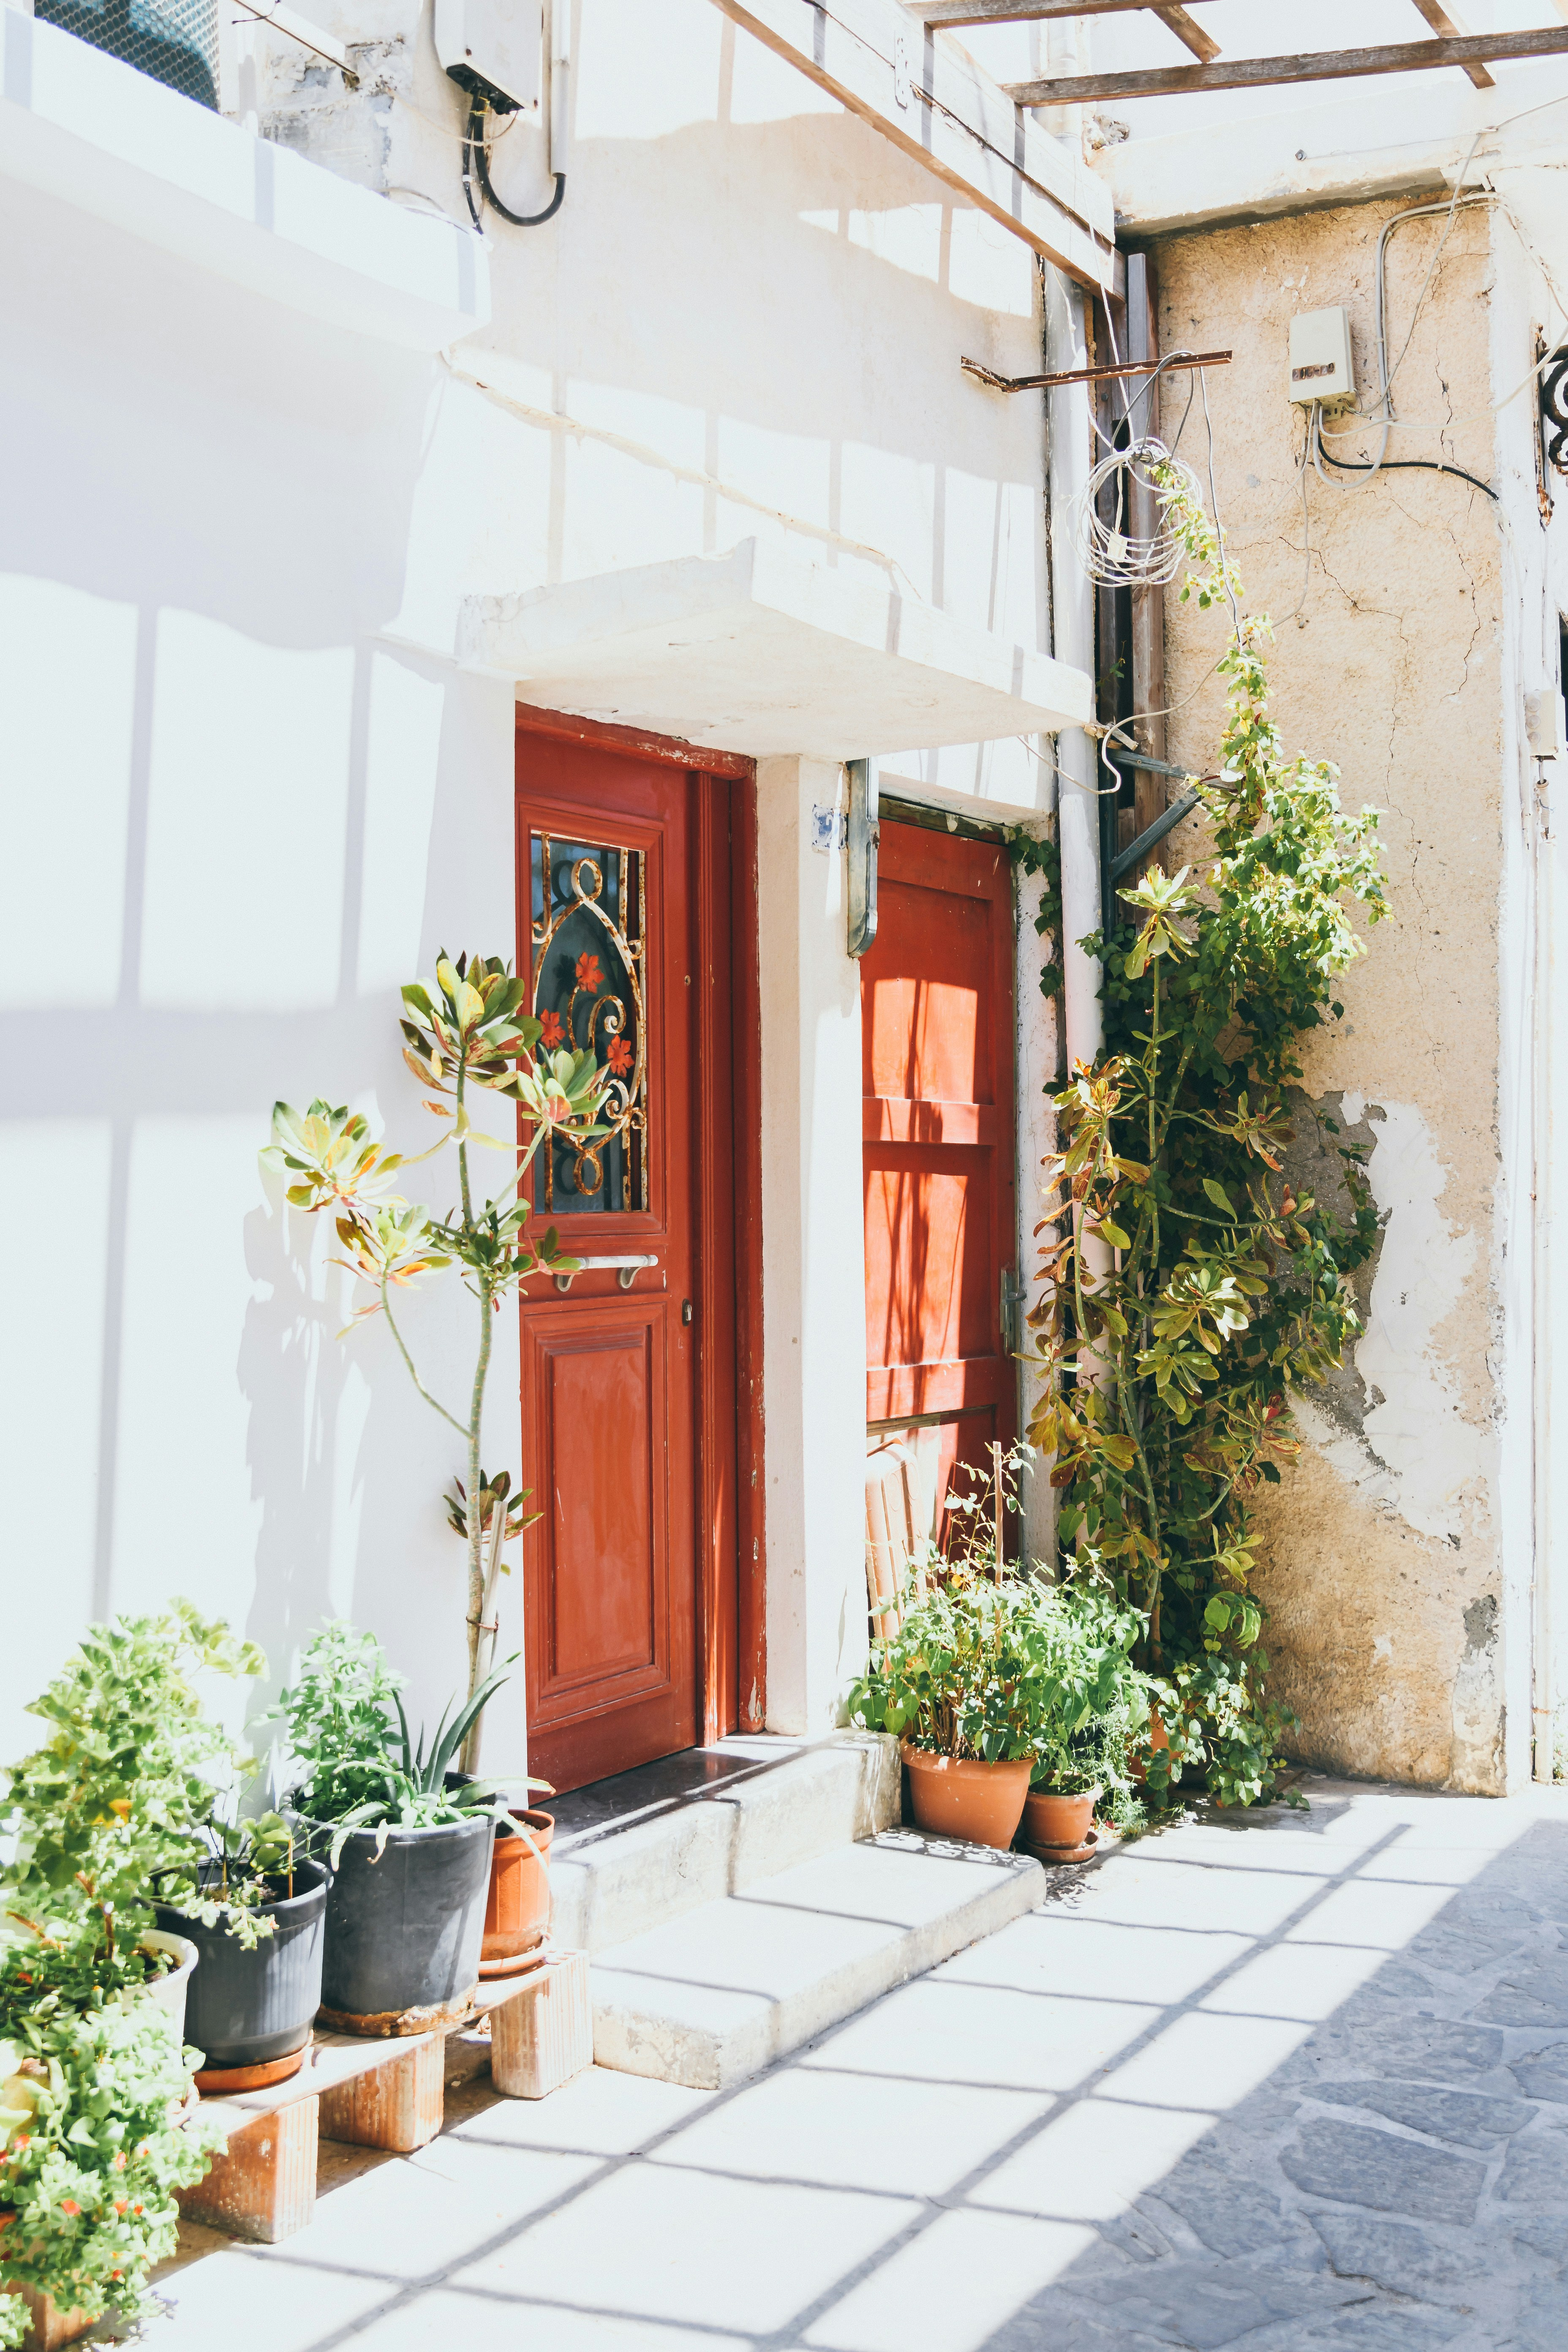door: (449, 679, 832, 1812)
